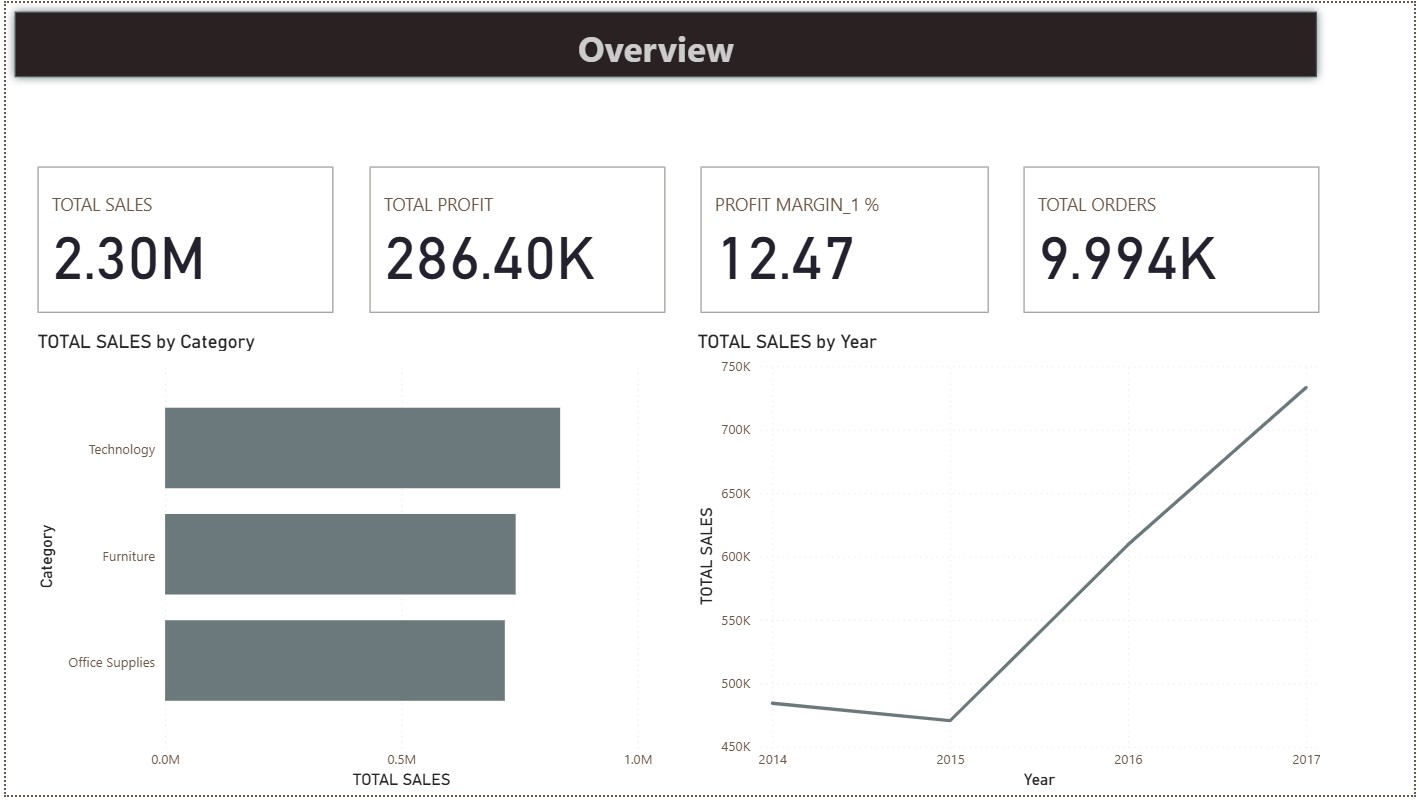

The page's visual inventory and layout, read from the dashboard file:
{"tool":"powerbi","page":{"name":"OVERVIEW","canvas":[1280,720],"ordinal":3},"visuals":[{"type":"cardVisual","fields":{"Data":["DATE TABLE.TOTAL SALES"]},"box":[23.9,143.6,279.3,143.6],"z":0},{"type":"cardVisual","fields":{"Data":["DATE TABLE.TOTAL ORDERS"]},"box":[920.4,143.6,279.3,143.6],"z":1000},{"type":"cardVisual","fields":{"Data":["DATE TABLE.TOTAL PROFIT"]},"box":[325.1,143.6,279.3,143.6],"z":2000},{"type":"cardVisual","fields":{"Data":["DATE TABLE.PROFIT MARGIN_1 %"]},"box":[626.3,143.6,272.2,143.6],"z":3000},{"type":"clusteredBarChart","fields":{"Y":["DATE TABLE.TOTAL SALES"],"Category":["Sample - Superstore.Category"]},"box":[23.7,297.7,569.5,421.8],"z":4000},{"type":"lineChart","fields":{"Category":["DATE TABLE.Order Date.Variation.Date Hierarchy.Year","DATE TABLE.Order Date.Variation.Date Hierarchy.Quarter","DATE TABLE.Order Date.Variation.Date Hierarchy.Month","DATE TABLE.Order Date.Variation.Date Hierarchy.Day"],"Y":["DATE TABLE.TOTAL SALES"]},"box":[623.6,297.7,576.3,421.8],"z":5000},{"type":"shape","box":[0,0,1199.7,75.4],"z":6000},{"type":"textbox","box":[0,13.3,1182,62.1],"z":7000}]}

Visuals, with their boxes in screenshot pixels (x1, y1, x2, y2), scaled from the page's 1280x720 canvas onto the 1419x808 screenshot:
cardVisual - DATE TABLE.TOTAL SALES: (left=26, top=161, right=336, bottom=322)
cardVisual - DATE TABLE.TOTAL ORDERS: (left=1020, top=161, right=1330, bottom=322)
cardVisual - DATE TABLE.TOTAL PROFIT: (left=360, top=161, right=670, bottom=322)
cardVisual - DATE TABLE.PROFIT MARGIN_1 %: (left=694, top=161, right=996, bottom=322)
clusteredBarChart - DATE TABLE.TOTAL SALES x Sample - Superstore.Category: (left=26, top=334, right=658, bottom=807)
lineChart - DATE TABLE.Order Date.Variation.Date Hierarchy.Year x DATE TABLE.Order Date.Variation.Date Hierarchy.Quarter: (left=691, top=334, right=1330, bottom=807)
shape: (left=0, top=0, right=1330, bottom=85)
textbox: (left=0, top=15, right=1310, bottom=85)
